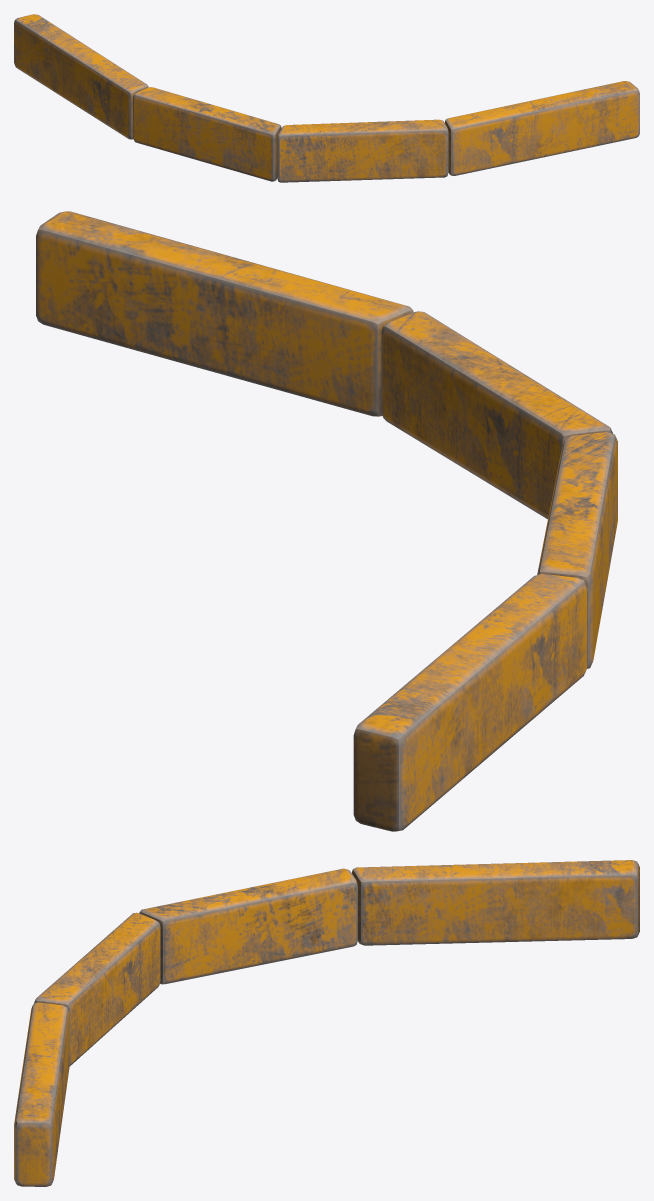
Rendered from SM_Curb2.fbx.
3 renders of one model, top to bottom at view 1: azimuth 30°, elevation 25°; view 2: azimuth 150°, elevation 25°; view 3: azimuth 270°, elevation 25°, orthographic. The views are drawn at different scales.
Visible parts, largest first — view 1: SM_Curb2_LOD0; view 2: SM_Curb2_LOD0; view 3: SM_Curb2_LOD0.
Part boxes in pixels (x1,y1,x2,y2): SM_Curb2_LOD0: [14, 14, 639, 182]; SM_Curb2_LOD0: [36, 211, 617, 831]; SM_Curb2_LOD0: [14, 860, 639, 1186].
Size of the model in its own units: 207 by 206 by 24.79.
Materials: 1 (1 with a texture image).
